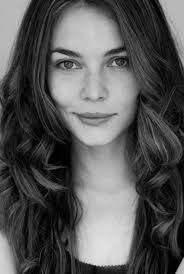no-mask: (38, 5, 155, 148)
